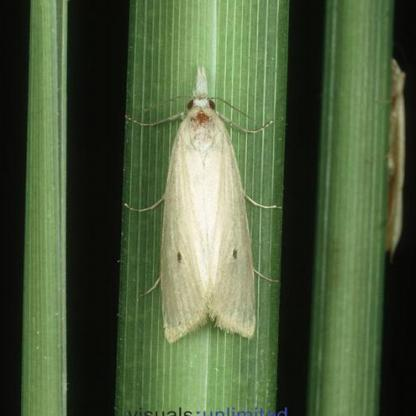stem-borer: (145, 63, 265, 350)
